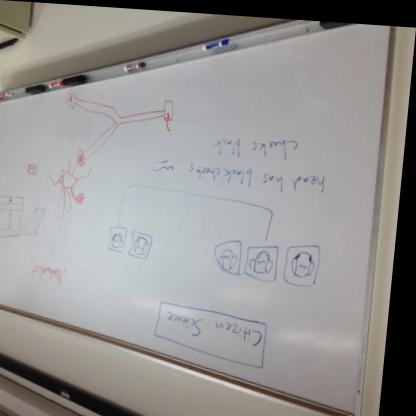Handwritten text: (188, 154, 339, 195), (163, 303, 274, 351), (209, 129, 308, 162)
